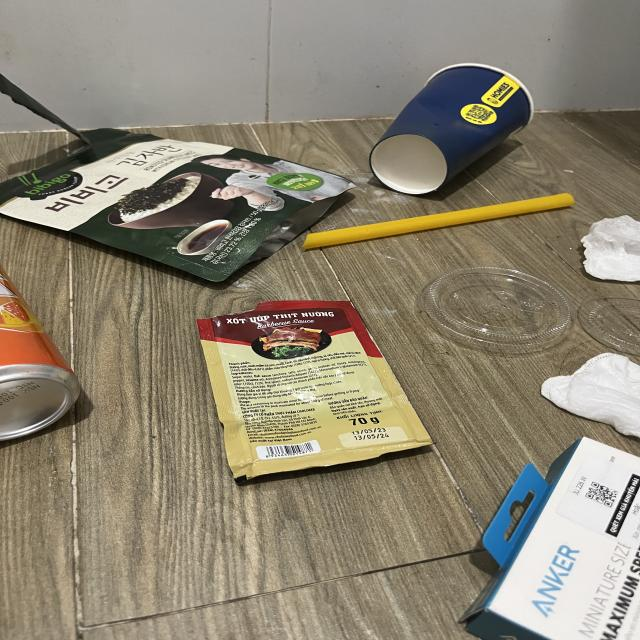can: (0, 263, 84, 443)
cardboard box: (459, 435, 640, 640)
drinking straw: (299, 194, 574, 250)
lid: (420, 266, 573, 348), (583, 292, 640, 357)
napkin: (541, 354, 640, 443), (582, 215, 640, 282)
packet: (196, 300, 432, 482)
plastic glass: (370, 64, 536, 197)
snack package: (0, 76, 373, 288)
